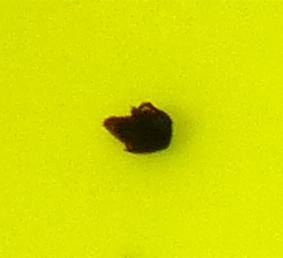Hymenoptera: (100, 100, 183, 158)
